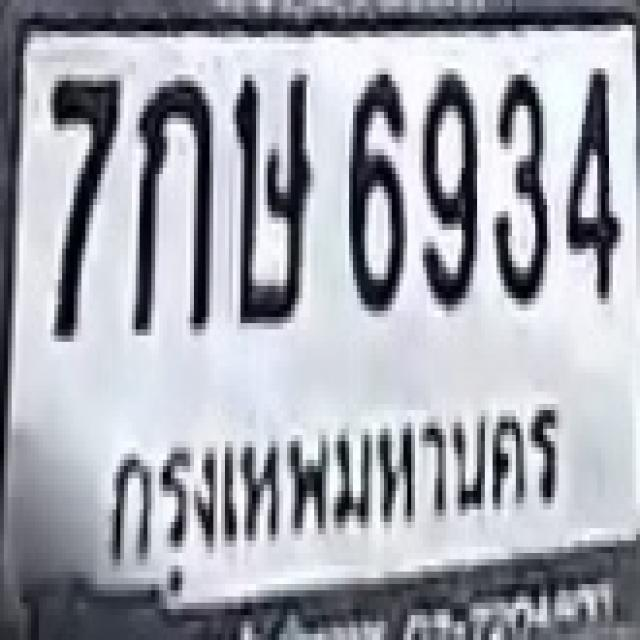3: (489, 69, 547, 298)
4: (562, 62, 617, 298)
6: (346, 68, 404, 311)
7: (51, 74, 120, 336)
9: (419, 68, 473, 304)
A01: (128, 74, 209, 330)
A39: (231, 68, 308, 323)
BKK: (92, 408, 573, 573)
